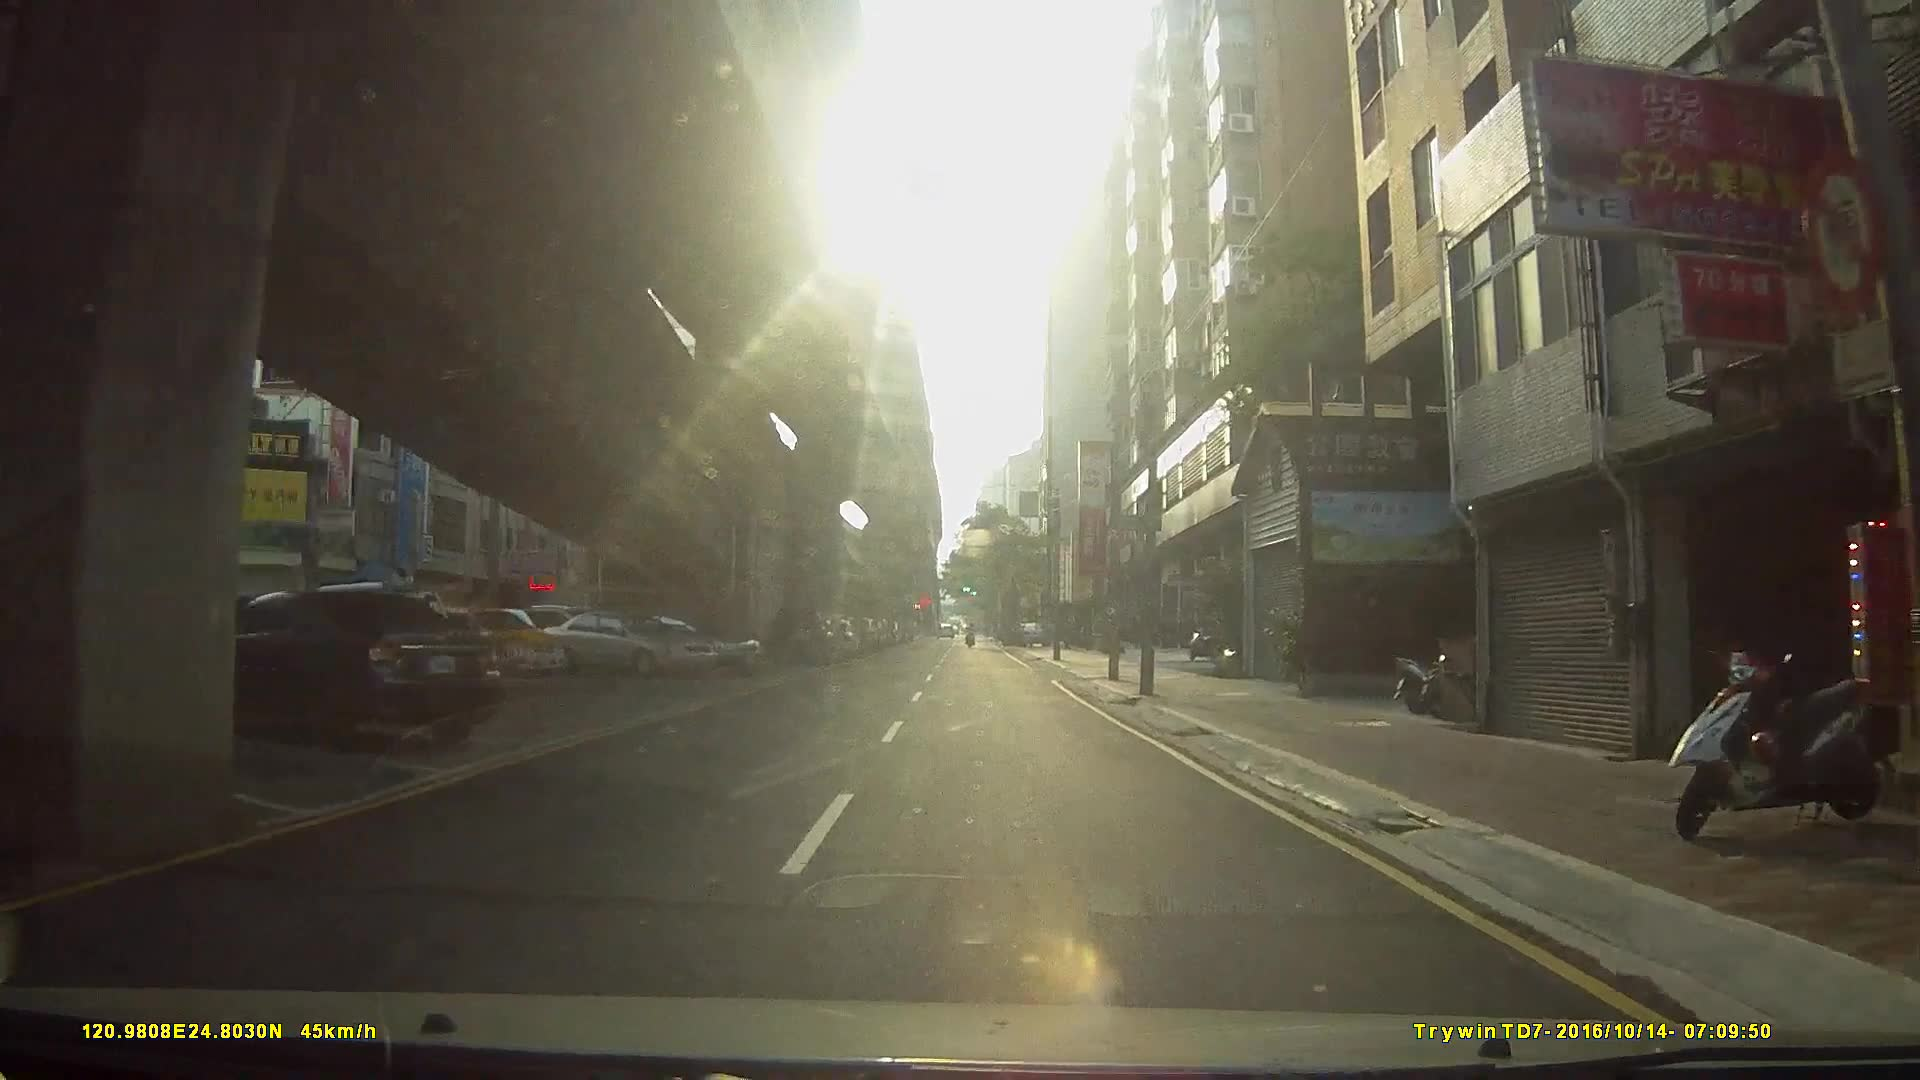vehicle: (196, 589, 502, 753), (531, 605, 715, 675), (600, 608, 764, 676), (438, 603, 567, 674), (764, 600, 837, 663)
